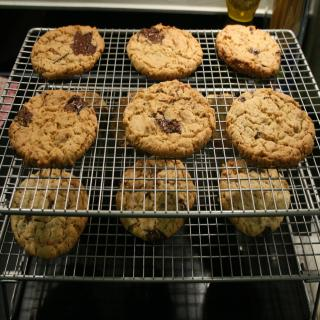Cookie: (121, 79, 217, 159), (224, 86, 315, 168), (8, 167, 89, 258), (9, 88, 100, 166), (115, 155, 196, 241), (218, 155, 292, 236), (127, 21, 203, 77), (31, 24, 104, 81), (215, 24, 281, 76), (113, 86, 145, 147), (205, 89, 237, 150), (75, 89, 109, 143)
